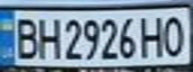2: (60, 15, 84, 61), (100, 15, 121, 61)
6: (118, 14, 139, 61)
9: (81, 15, 103, 61)
B: (9, 14, 42, 61)
H: (139, 12, 169, 59), (33, 14, 60, 61)
O: (160, 11, 190, 57)
